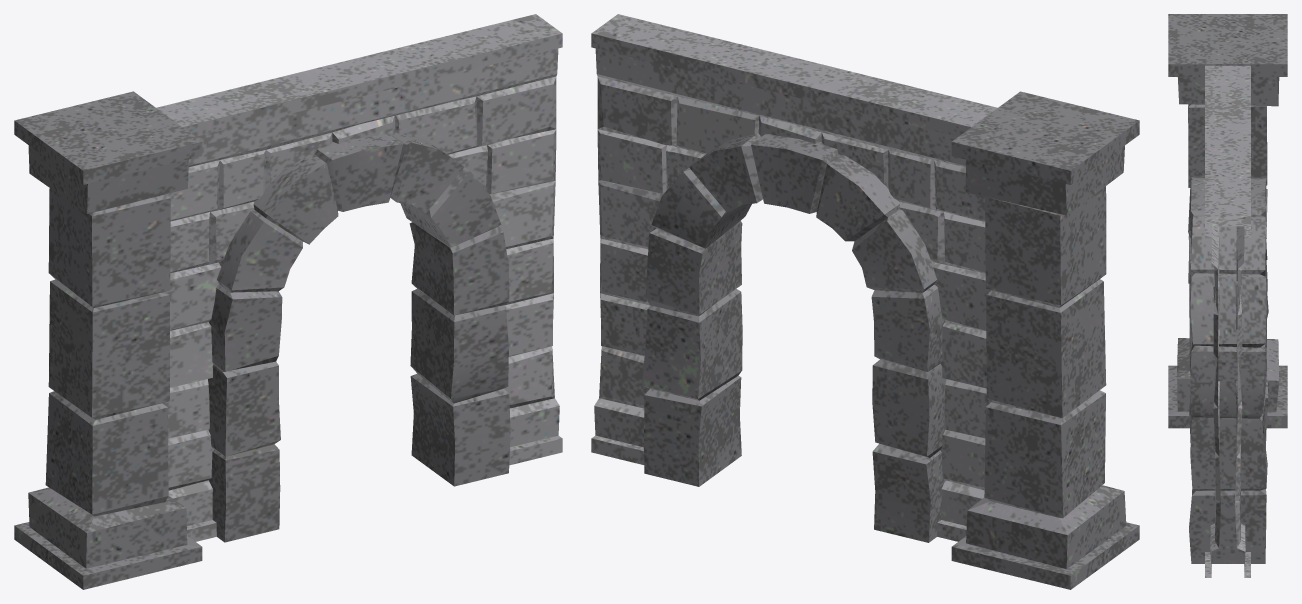
The model's file is gate_2.glb.
3 views of the same model, side by side, from view 1: azimuth 30°, elevation 25°; view 2: azimuth 150°, elevation 25°; view 3: azimuth 270°, elevation 25° (orthographic). The views are drawn at different scales.
Parts seen in each view (by area): view 1: Doorway; view 2: Doorway; view 3: Doorway.
Part boxes in pixels (box(x1,y1,x2,y2)): Doorway: box(14, 14, 562, 589); Doorway: box(591, 14, 1139, 589); Doorway: box(1168, 14, 1287, 577).
Bounding box in the file's own units: 3.76 × 3 × 0.8931.
2 materials, 2 textured.
